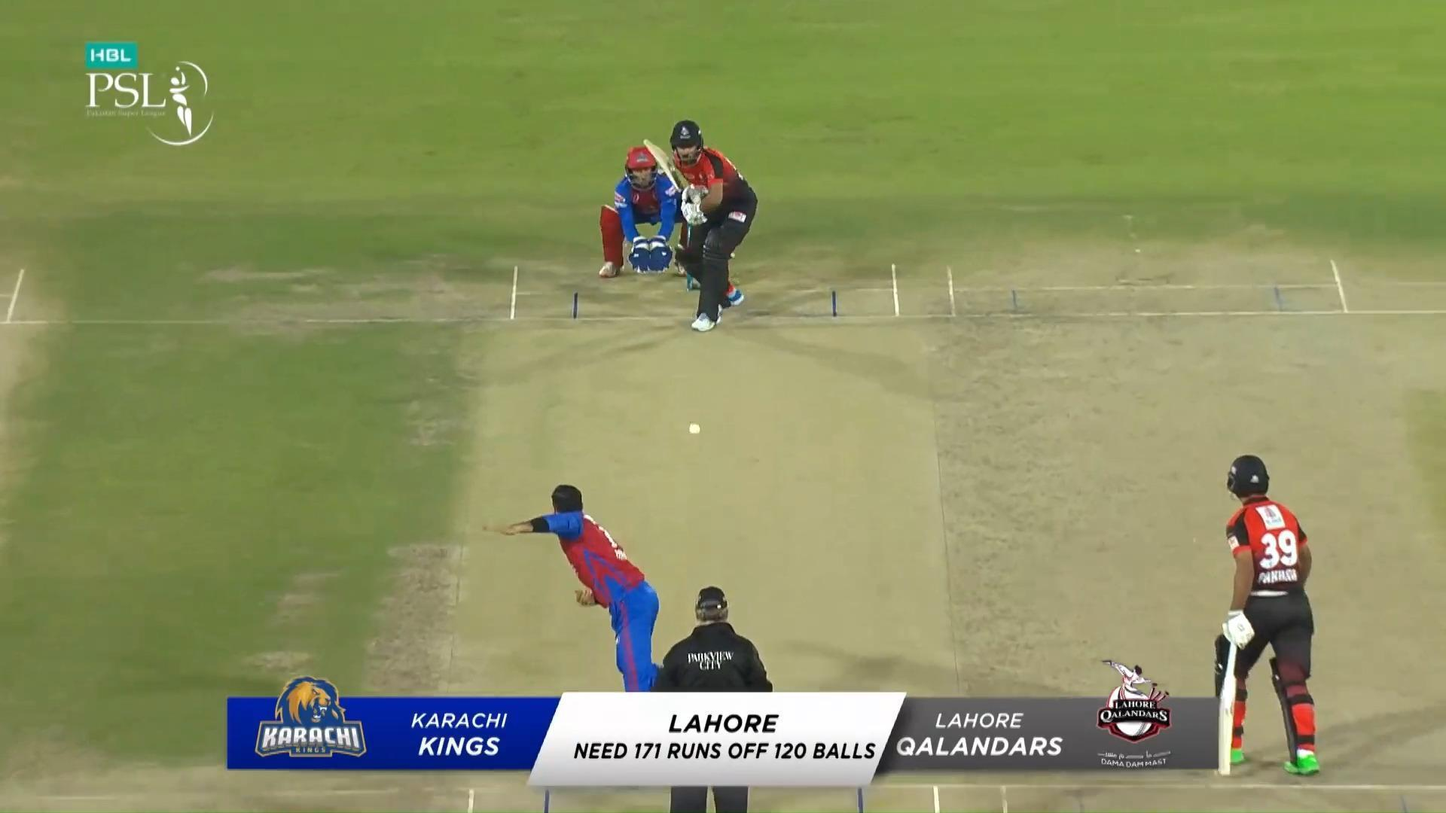BM 1: (642, 119, 759, 333)
BO: (485, 483, 660, 691)
